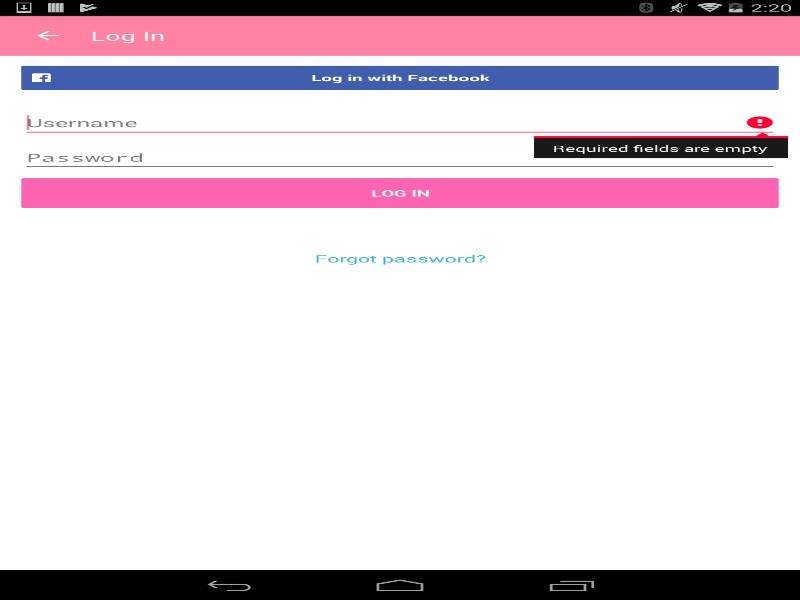Button: (21, 178, 778, 208), (21, 65, 778, 90), (10, 15, 85, 55)
Input: (21, 108, 778, 137), (21, 143, 778, 171)
